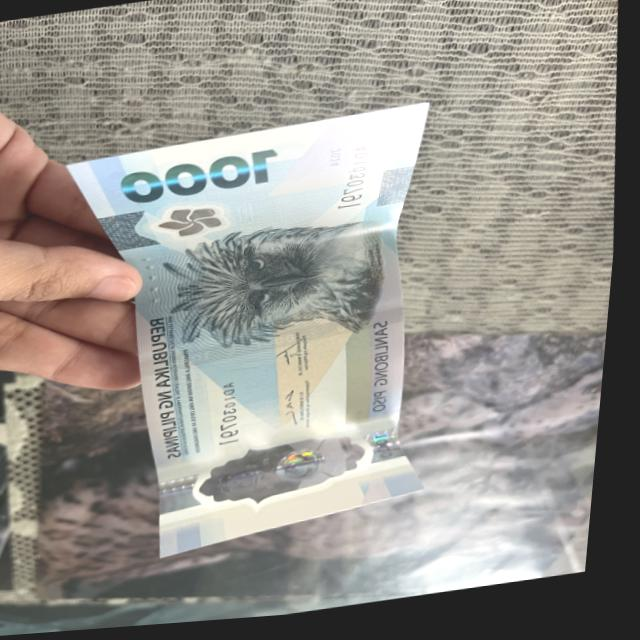clear_window: (156, 417, 426, 535)
eagle: (170, 220, 401, 360)
sampaguita: (143, 199, 264, 251)
security_thread: (146, 314, 410, 380)
serial_number: (216, 375, 264, 456)
